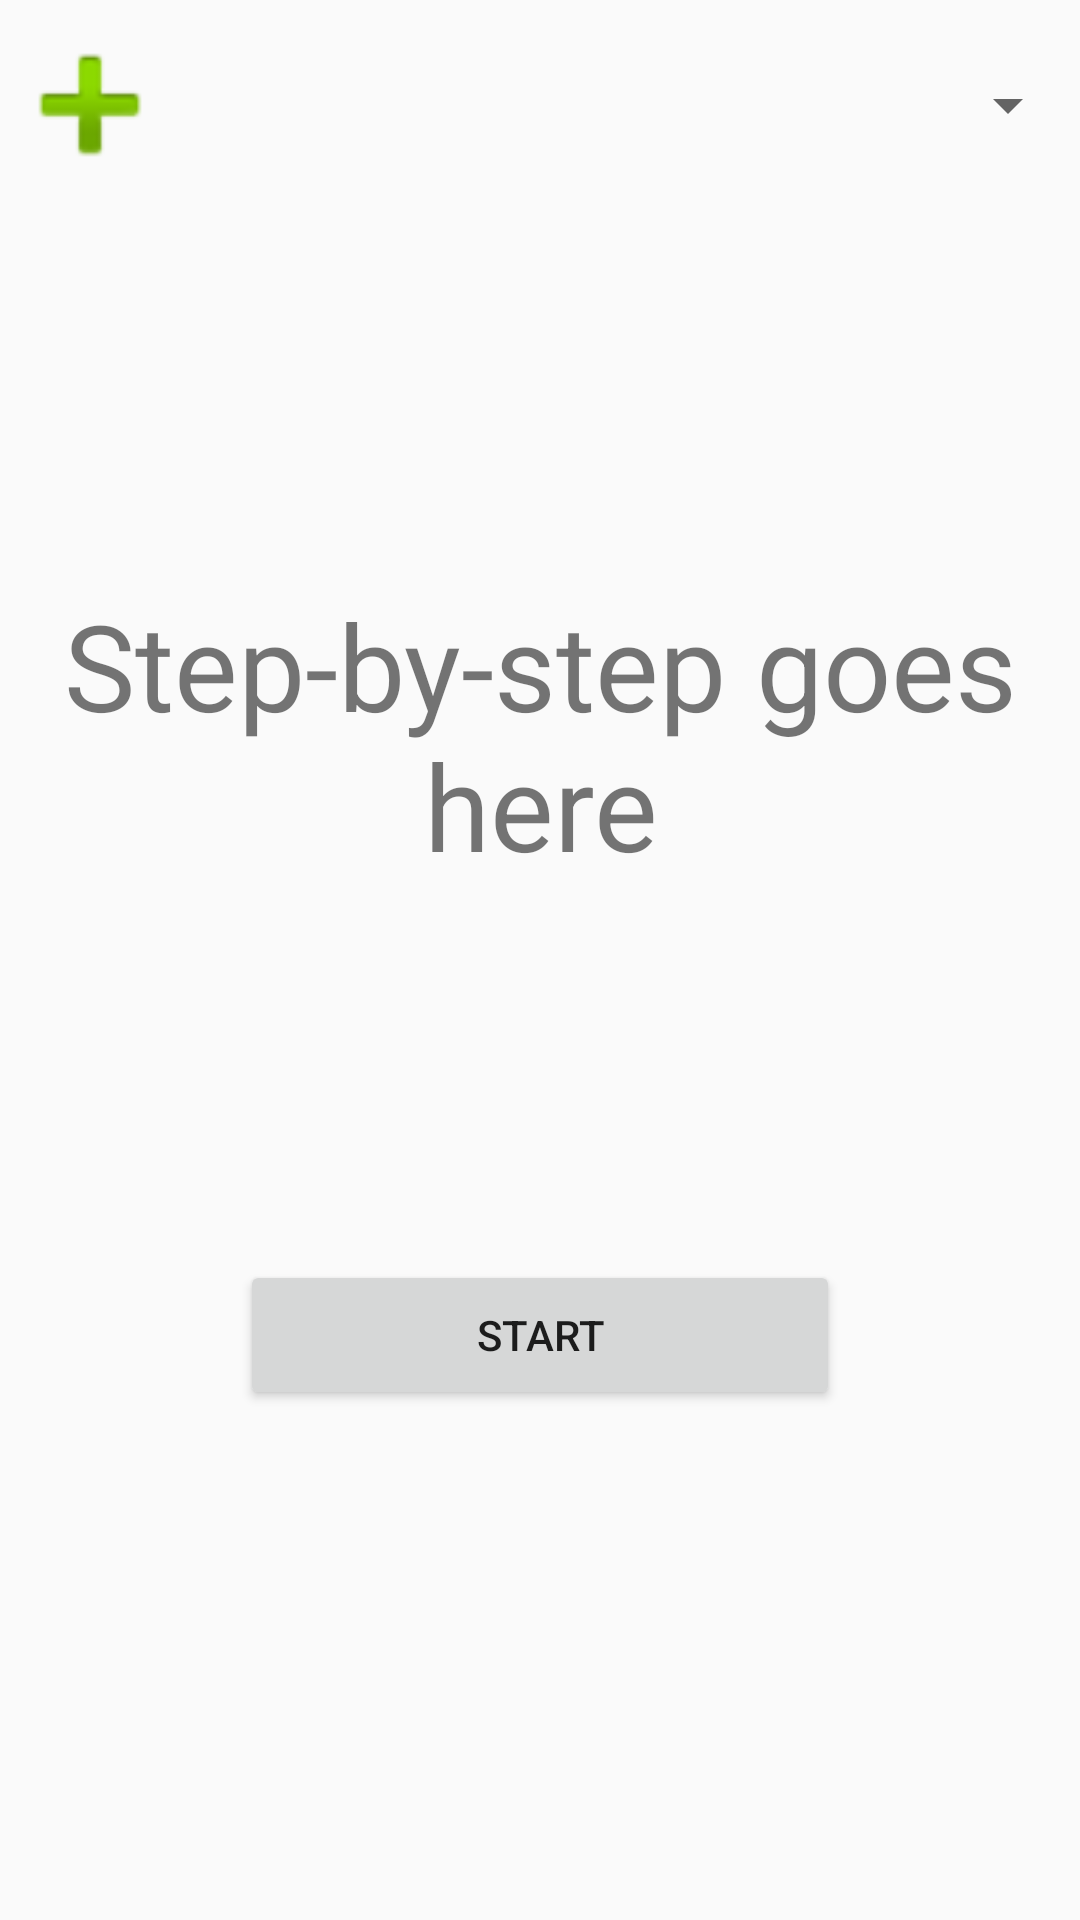

Where icons sit on this 1080x1920 app screen, as (x1, y1, x2, y2):
add: (39, 54, 141, 156)
